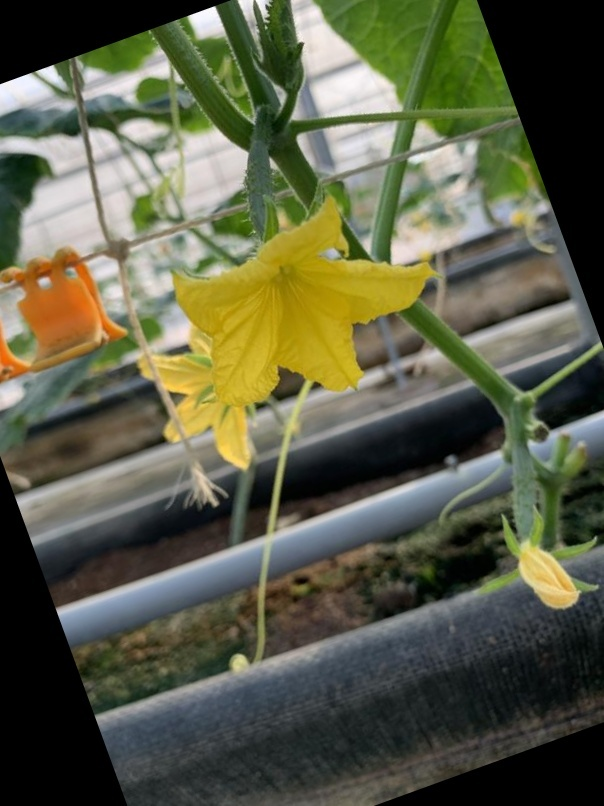flowering: (140, 128, 440, 408)
